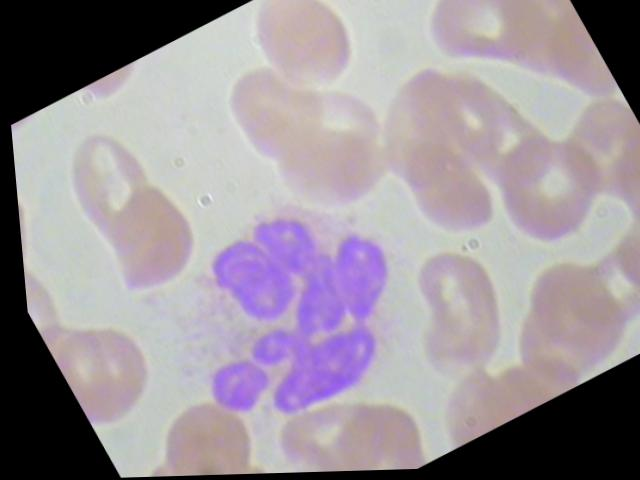Red Blood Cells: (373, 235, 531, 398), (200, 39, 345, 184), (476, 120, 619, 260), (259, 113, 400, 240), (38, 304, 167, 436), (41, 117, 174, 244), (77, 178, 209, 305), (381, 128, 508, 260), (234, 0, 378, 112), (507, 249, 634, 370), (410, 0, 558, 99), (252, 382, 399, 474), (417, 66, 532, 183), (119, 387, 266, 477), (545, 92, 639, 220), (594, 199, 639, 319)
White Blood Cells: (101, 166, 464, 472)
